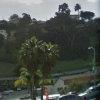Tree: (11, 24, 63, 93)
